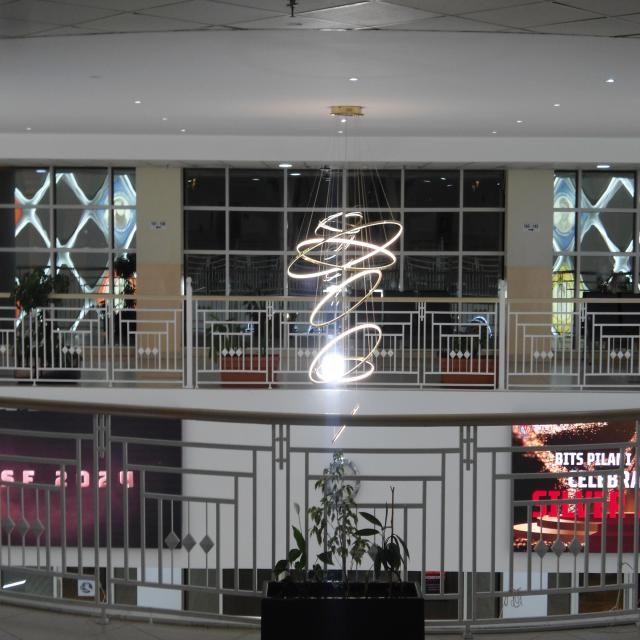light: (300, 157, 398, 455)
railing: (0, 398, 640, 640), (0, 280, 640, 404)
